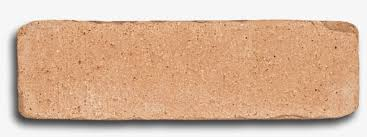brick: (18, 20, 359, 118)
